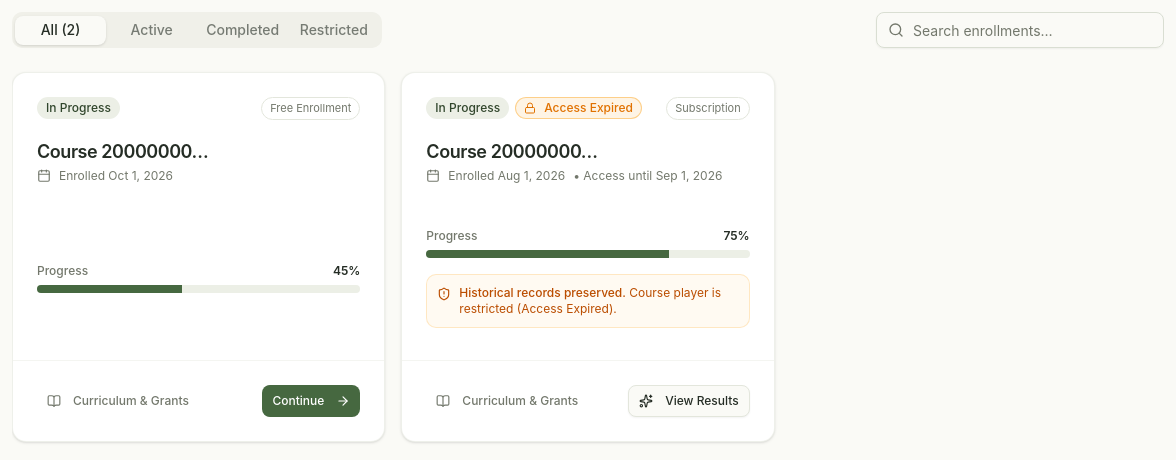
EnrollmentList Component › filters enrollments by status tab and search query
Expected: the number of progress indicators is 2, [37, 285, 182, 293]; [426, 250, 669, 258]
// Filter by restricted / expired
Click the tab "Restricted" at (334, 30), box [288, 16, 379, 44]
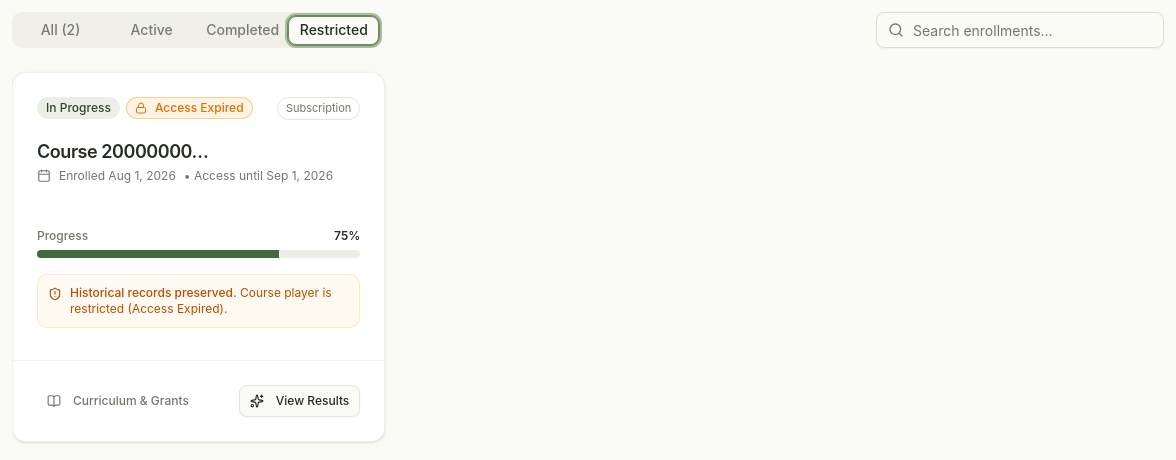
Result: the number of progress indicators is 1 at [37, 250, 280, 258]
// Search query that matches nothing
Type "nonexistent-uuid" into the field with placeholder "Search enrollments…" at (1020, 30), box [876, 12, 1164, 48]
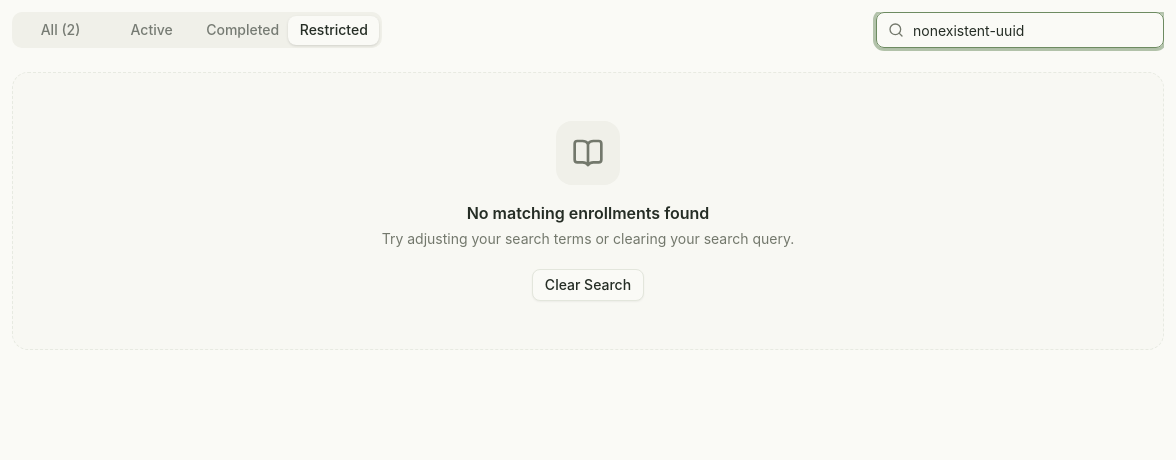
Result: the heading "No matching enrollments found" is shown at [467, 201, 709, 225]
